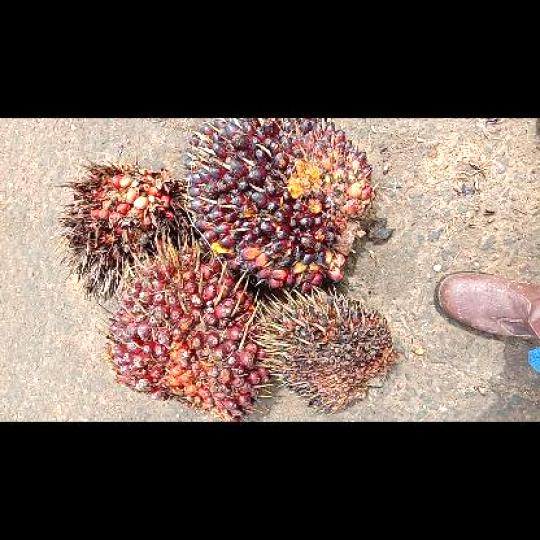kurang masak: (180, 118, 376, 296)
masak: (99, 249, 268, 421)
terlalu masak: (49, 159, 190, 303)
